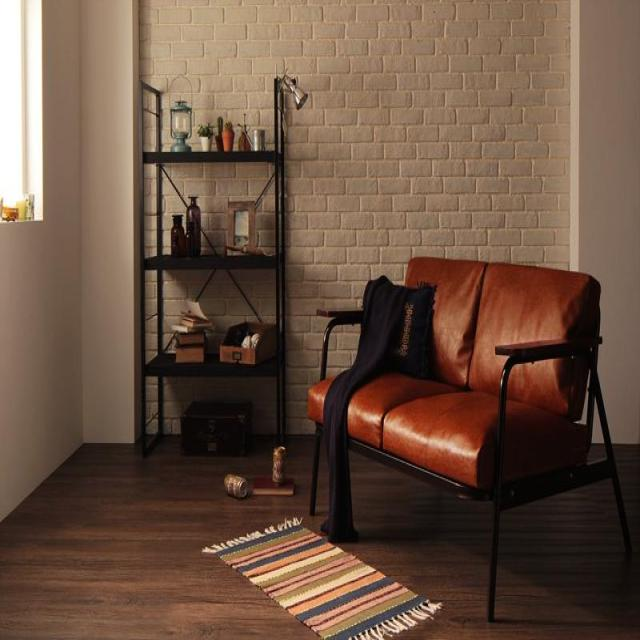vintage shelf: (132, 70, 292, 467)
vintage sofa: (300, 242, 638, 629)
